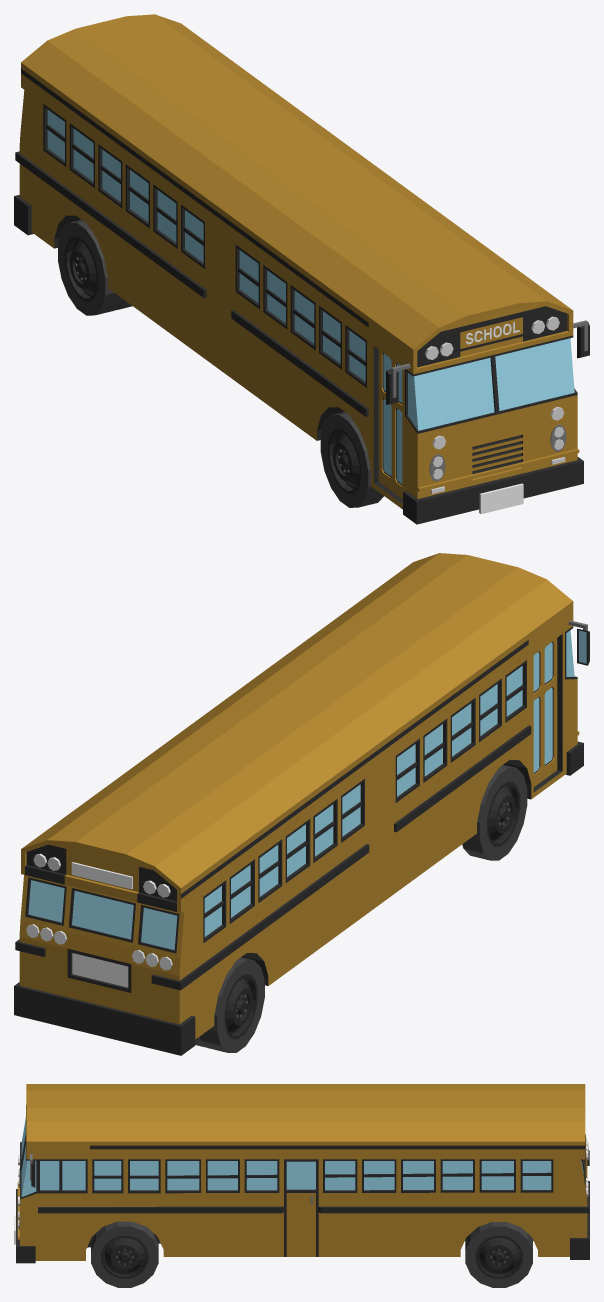
The model's file is School Bus.fbx.
3 renders of one model, top to bottom at view 1: azimuth 30°, elevation 25°; view 2: azimuth 150°, elevation 25°; view 3: azimuth 270°, elevation 25°, orthographic. The views are drawn at different scales.
Visible parts, largest first — view 1: Plane, Cylinder.012, Cylinder.010; view 2: Plane, Cylinder.010, Cylinder.012; view 3: Plane, Cylinder.002, Cylinder.008.
Boxes of the visible parts, bbox=[...] form: Plane: bbox=[14, 14, 589, 524]; Cylinder.012: bbox=[58, 219, 122, 315]; Cylinder.010: bbox=[320, 412, 383, 507]; Plane: bbox=[14, 553, 589, 1055]; Cylinder.010: bbox=[462, 764, 527, 860]; Cylinder.012: bbox=[199, 957, 264, 1052]; Plane: bbox=[14, 1084, 589, 1263]; Cylinder.002: bbox=[91, 1221, 158, 1287]; Cylinder.008: bbox=[465, 1222, 532, 1287].
Bounding box in the file's own units: 224 × 239 × 775.
